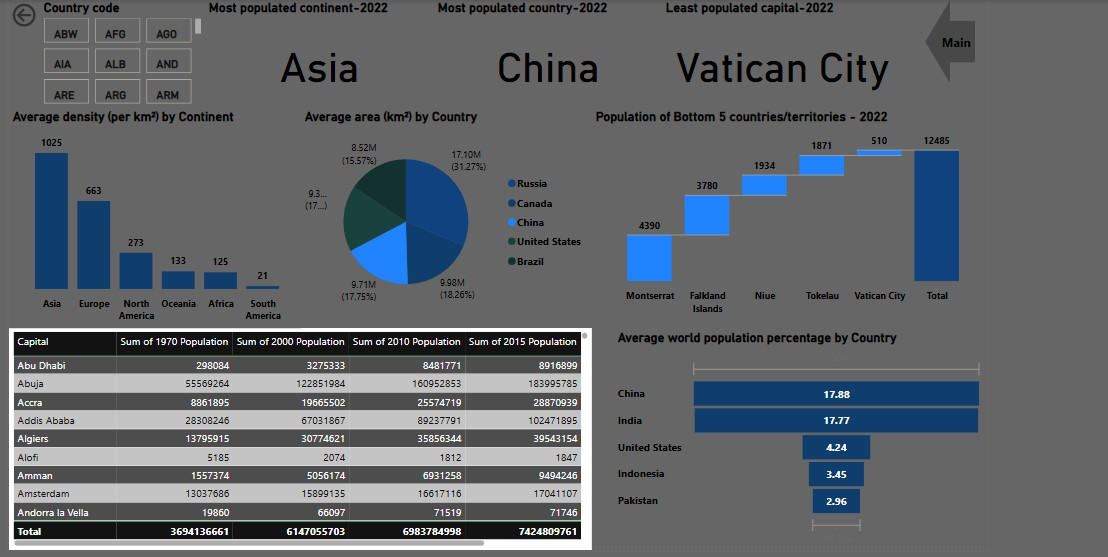

What the dashboard file says about the page in this screenshot:
{"tool":"powerbi","page":{"name":"Sub","canvas":[1280,720],"ordinal":1},"visuals":[{"type":"actionButton","box":[0,0,41.1,39.7],"z":0},{"type":"tableEx","title":"Total population by capital (1970-2022)","fields":{"Values":["world_population.Capital","Sum(world_population.1970 Population)","Sum(world_population.2000 Population)","Sum(world_population.2010 Population)","Sum(world_population.2015 Population)","Sum(world_population.2022 Population)"]},"box":[0,429.1,762.6,290.9],"z":1000},{"type":"columnChart","title":"Average density (per km²) by Continent","fields":{"Category":["world_population.Continent"],"Y":["Avg(world_population.Density (per km²))"]},"box":[0,142.5,382,286.5],"z":2000},{"type":"funnel","title":"Average world population percentage by Country","fields":{"Category":["world_population.Country/Territory"],"Y":["Avg(world_population.World Population Percentage)"]},"box":[792,432,487.8,288],"z":3000},{"type":"waterfallChart","title":"Population of Bottom 5 countries/territories - 2022","fields":{"Category":["world_population.Country/Territory"],"Y":["Sum(world_population.2022 Population)"]},"box":[762.6,142.5,517.2,276.2],"z":4000},{"type":"pieChart","title":"Average area (km²) by Country","fields":{"Category":["world_population.Country/Territory"],"Y":["Avg(world_population.Area (km²))"]},"box":[382,142.5,380.6,276.2],"z":5000},{"type":"card","title":"Most populated continent-2022","fields":{"Values":["Min(world_population.Continent)"]},"box":[257.1,0,299.8,142.5],"z":6000},{"type":"card","title":"Most populated country-2022","fields":{"Values":["Min(world_population.Country/Territory)"]},"box":[556,0,299,142.8],"z":7000},{"type":"shape","box":[1199.4,0,65.5,109.2],"z":8000},{"type":"advancedSlicerVisual","title":"Country code","fields":{"Values":["world_population.CCA3"]},"box":[41.1,0,216,142.5],"z":9000},{"type":"card","title":"Least populated capital-2022","fields":{"Values":["Max(world_population.Capital)"]},"box":[855,0,315.8,142.8],"z":10000}]}

Visuals, with their boxes on the page's 1280x720 design canvas (x1, y1, x2, y2). These are canvas units, not pixel positions in the 1108x557 screenshot, which may show the page scaled, cropped or inside an application window:
actionButton: bbox=[0, 0, 41, 40]
"Total population by capital (1970-2022)" tableEx: bbox=[0, 429, 763, 720]
"Average density (per km²) by Continent" columnChart: bbox=[0, 142, 382, 429]
"Average world population percentage by Country" funnel: bbox=[792, 432, 1280, 720]
"Population of Bottom 5 countries/territories - 2022" waterfallChart: bbox=[763, 142, 1280, 419]
"Average area (km²) by Country" pieChart: bbox=[382, 142, 763, 419]
"Most populated continent-2022" card: bbox=[257, 0, 557, 142]
"Most populated country-2022" card: bbox=[556, 0, 855, 143]
shape: bbox=[1199, 0, 1265, 109]
"Country code" advancedSlicerVisual: bbox=[41, 0, 257, 142]
"Least populated capital-2022" card: bbox=[855, 0, 1171, 143]
